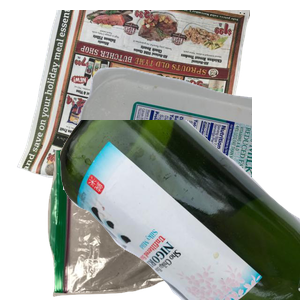glass: (60, 120, 300, 300)
paper: (14, 10, 254, 190)
plastic: (60, 65, 300, 245)
trash: (45, 144, 235, 300)
